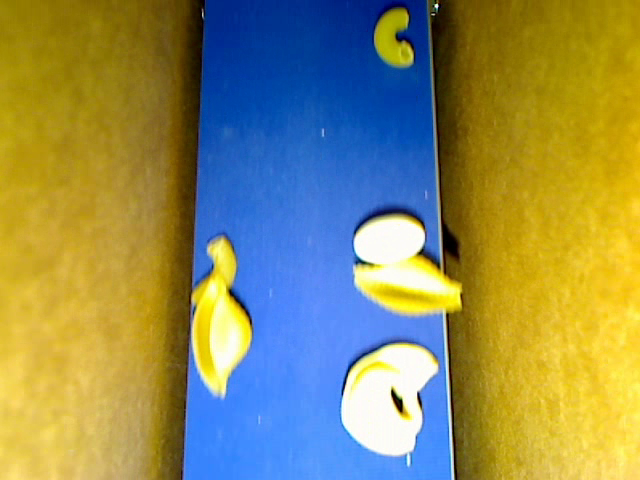elbow: (190, 235, 236, 306), (374, 7, 413, 67)
shell: (190, 274, 251, 397), (353, 254, 462, 316)
tortellini: (340, 343, 438, 457)
